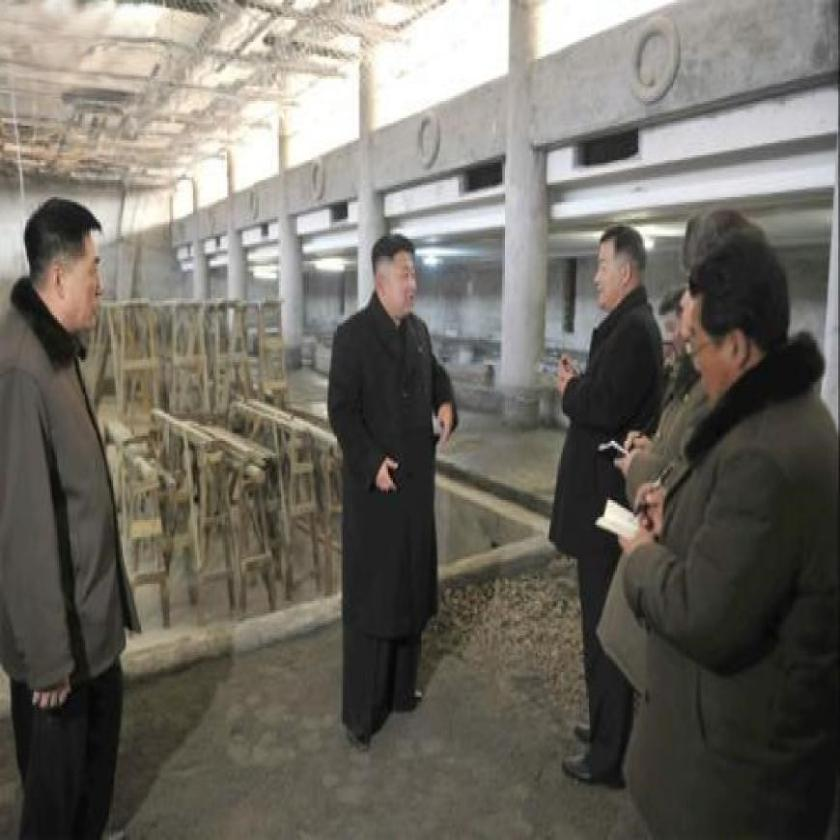Sin_casco: (683, 234, 790, 405), (22, 187, 106, 342), (370, 231, 422, 326), (586, 223, 646, 304)
